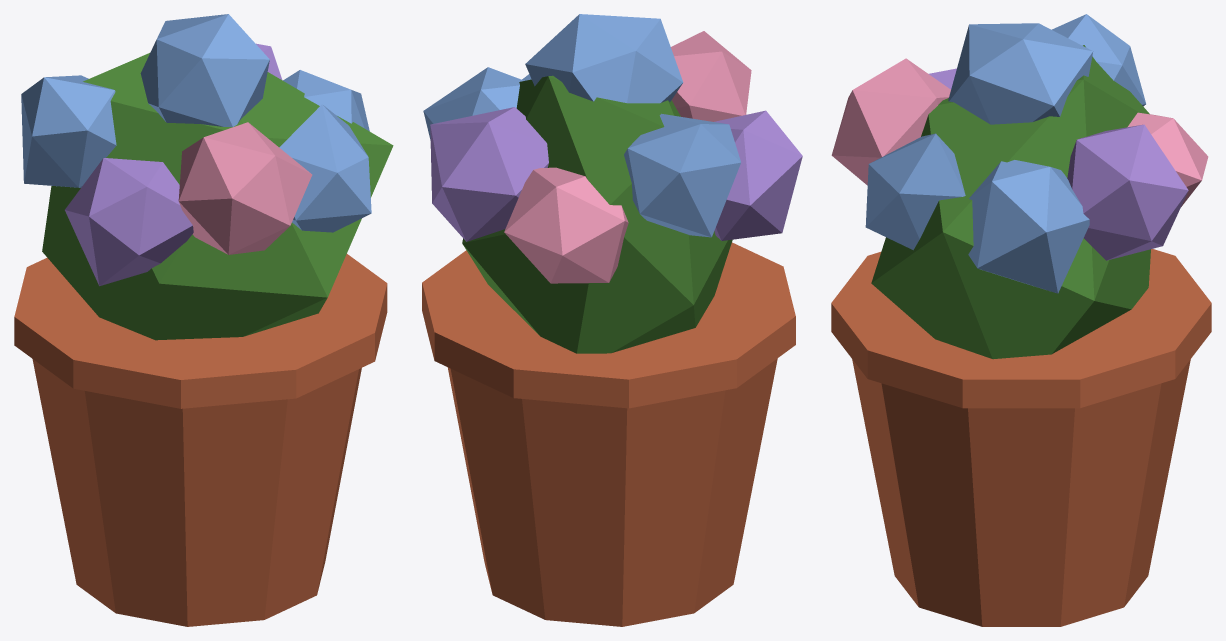
Rendered from getkong-hhkuebel.glb.
3 renders of one model, left to right at view 1: azimuth 30°, elevation 25°; view 2: azimuth 150°, elevation 25°; view 3: azimuth 270°, elevation 25°, orthographic.
Parts seen in each view (by area): view 1: kuebel; view 2: kuebel; view 3: kuebel.
Boxes of the visible parts, x1=… form: kuebel: x1=14, y1=14, x2=393, y2=626; kuebel: x1=422, y1=14, x2=802, y2=626; kuebel: x1=831, y1=14, x2=1211, y2=626.
Bounding box in the file's own units: 0.5992 × 0.9584 × 0.6.
